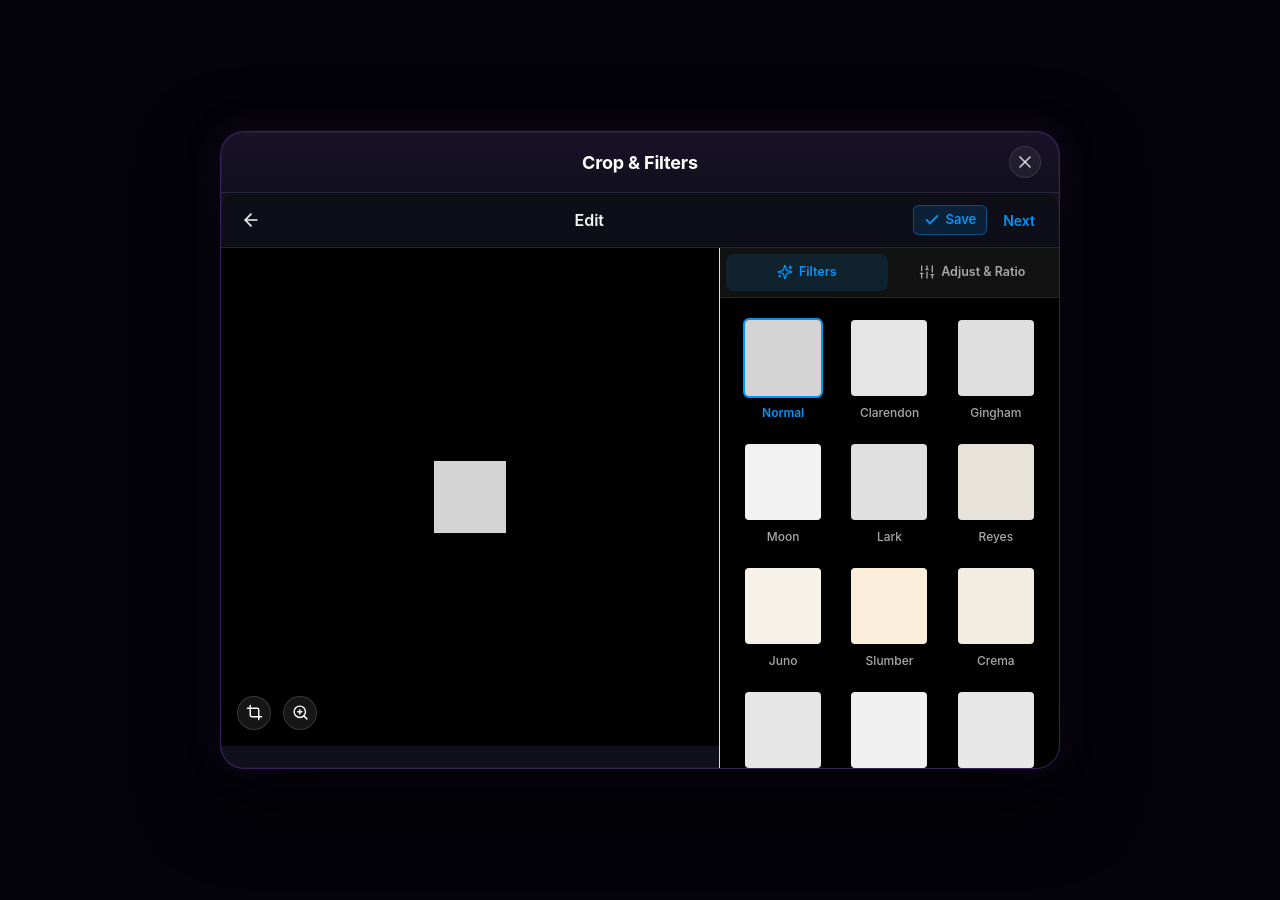
CreatePostModal Crop & Zoom Features › toggles custom crop frame via Custom Crop button
Earlier steps of the test are not shown.
Expected: the heading "Crop & Filters" is shown, [582,152,698,173]
Click the button "Adjust & Ratio".
click(972, 272)  # box [892,254,1053,291]
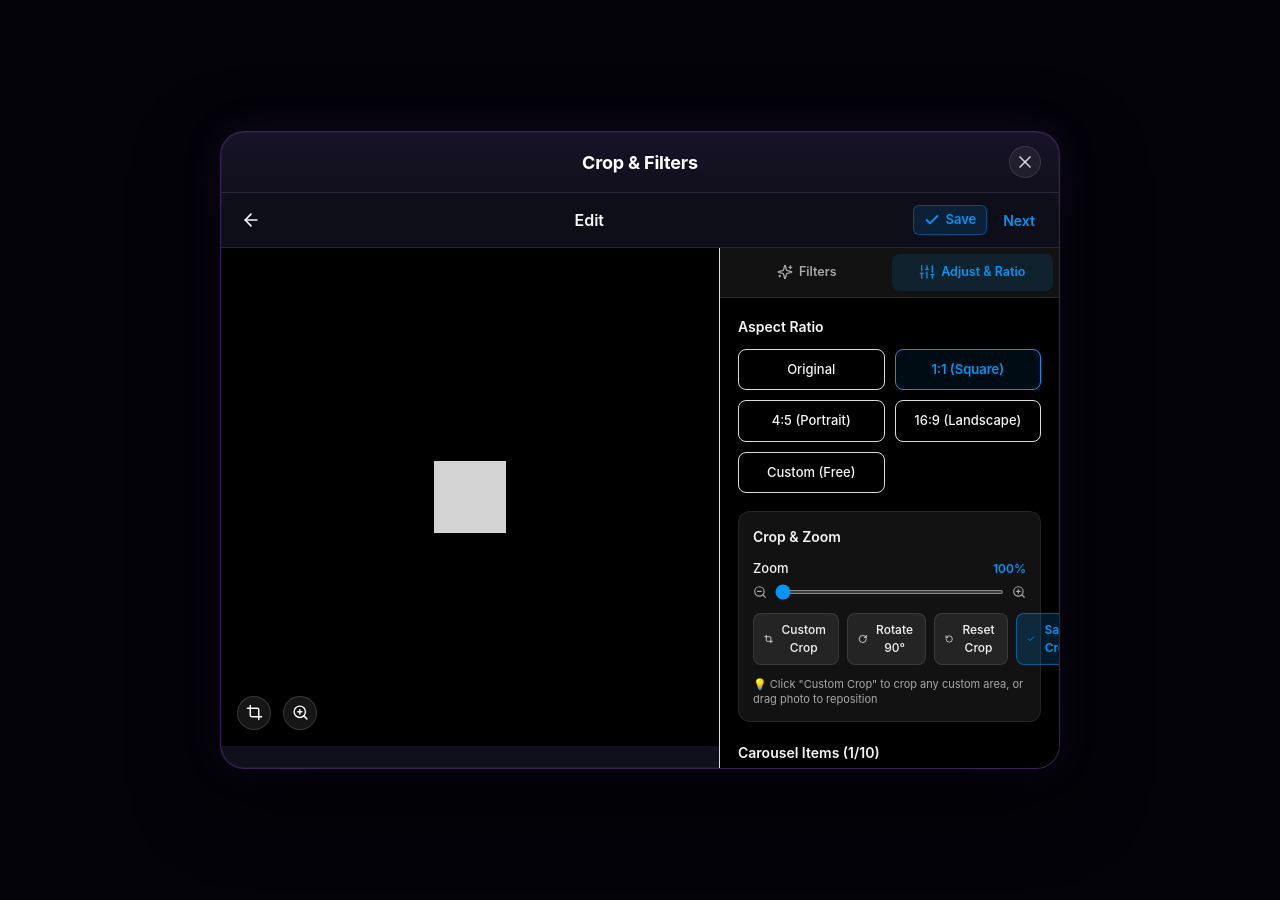
Expected: the text "Custom Crop" is shown, [779,620,828,656]
Click the button "Custom Crop".
click(796, 638)  # box [753,612,839,664]
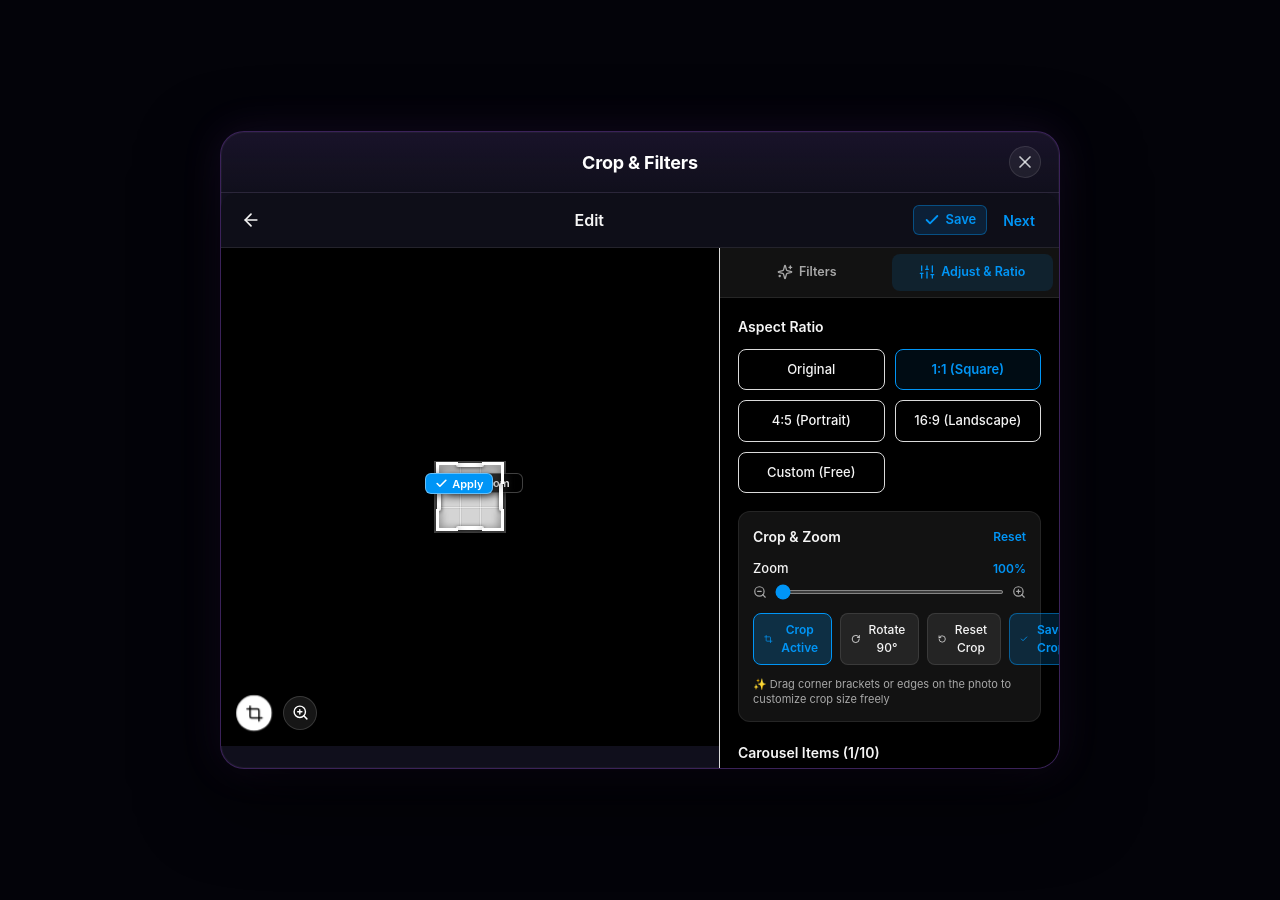
Expected: the text "Crop Active" is shown, [779,620,821,656]
Expected: the element with class "ig-custom-crop-frame" is shown, [438,464,502,529]
Click the button "Crop Active".
click(792, 638)  # box [753,612,832,664]
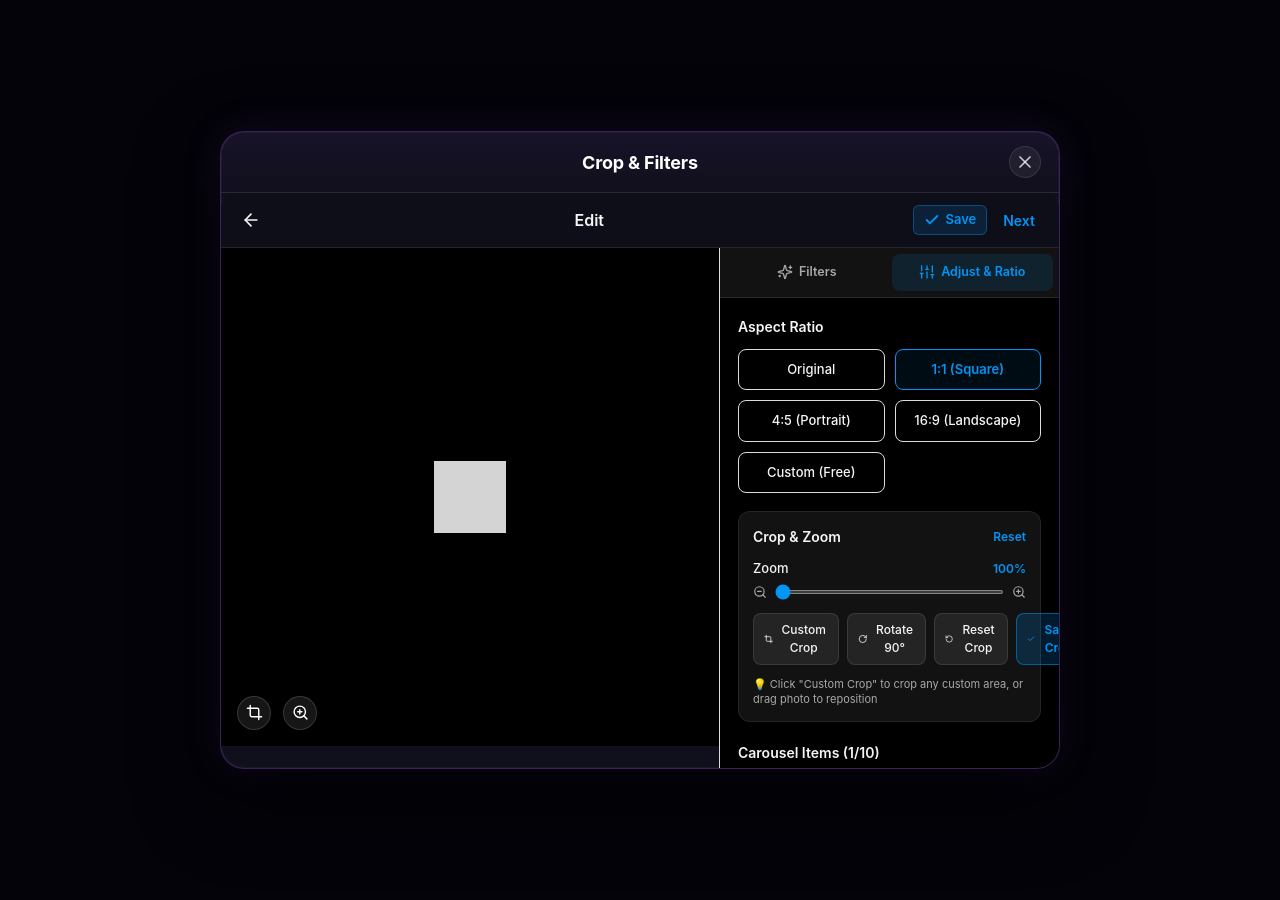
Expected: the text "Custom Crop" is shown, [779,620,828,656]
Expected: the element with class "ig-custom-crop-frame" is gone
